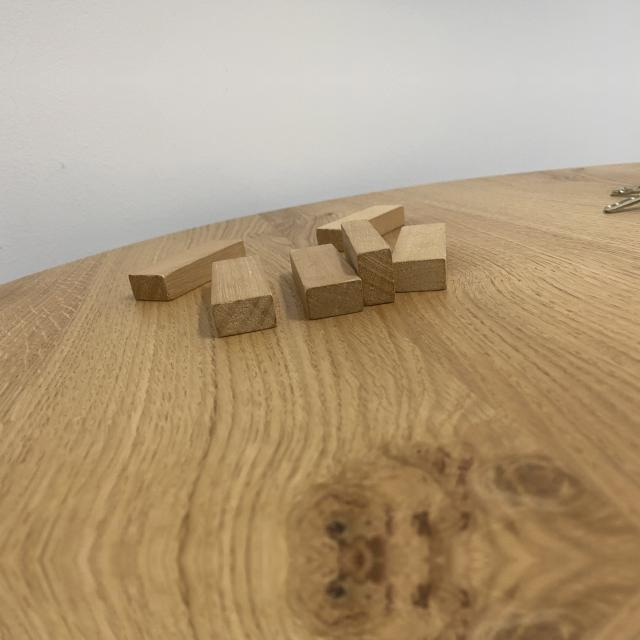jenga: (128, 240, 246, 301), (290, 243, 364, 320), (211, 256, 276, 338), (340, 220, 395, 307), (316, 205, 404, 252), (392, 223, 446, 293)
